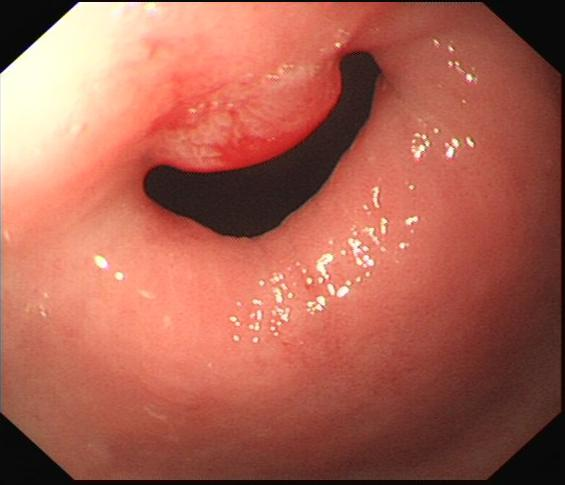Polyp: (140, 44, 354, 179)
